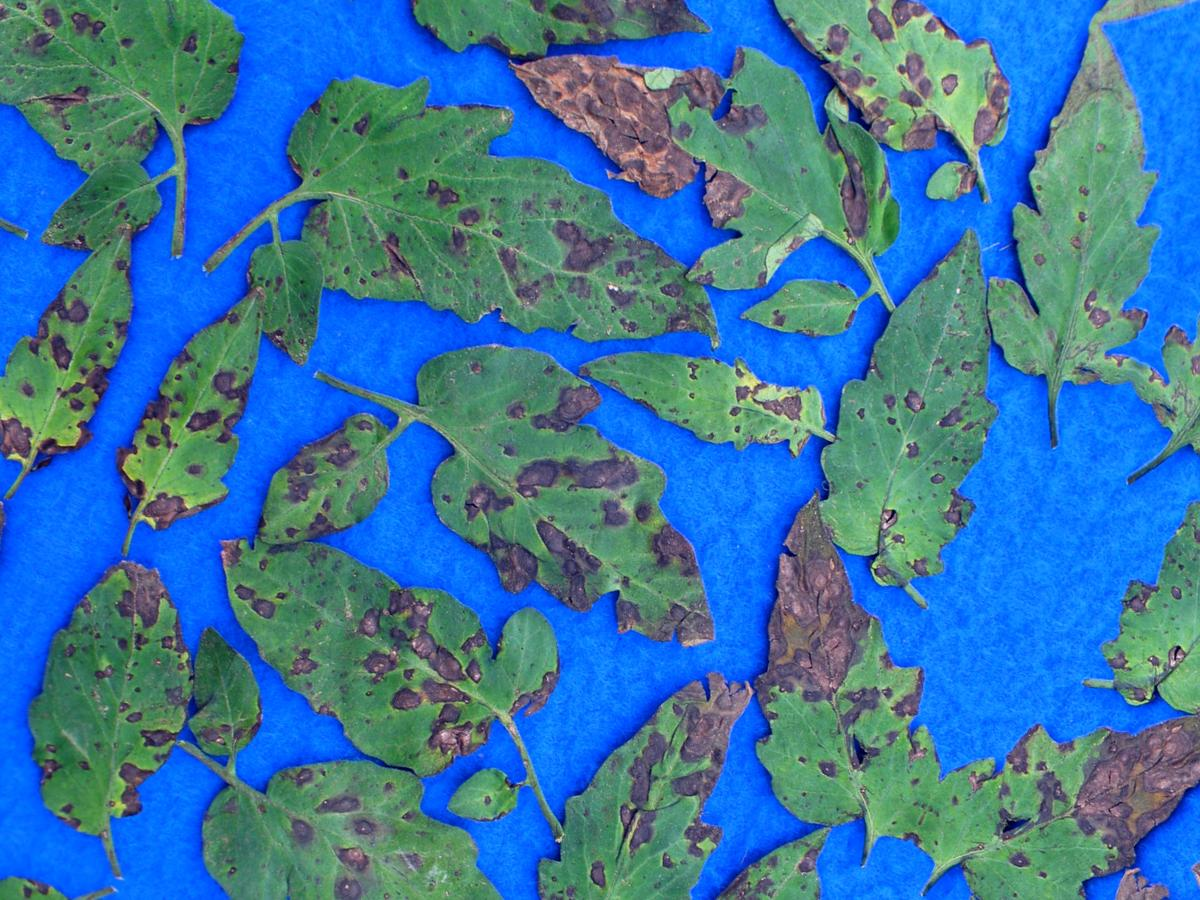Tomato Early blight leaf: (228, 38, 795, 479), (347, 311, 786, 674), (158, 470, 573, 803), (675, 482, 1025, 865), (928, 21, 1200, 421), (776, 227, 1056, 606), (163, 708, 611, 900), (0, 544, 258, 865), (503, 622, 791, 900), (72, 257, 309, 580), (711, 0, 1063, 200), (572, 285, 850, 491), (360, 0, 724, 146), (581, 779, 857, 900), (722, 226, 890, 379), (160, 633, 292, 770), (449, 0, 769, 11)
